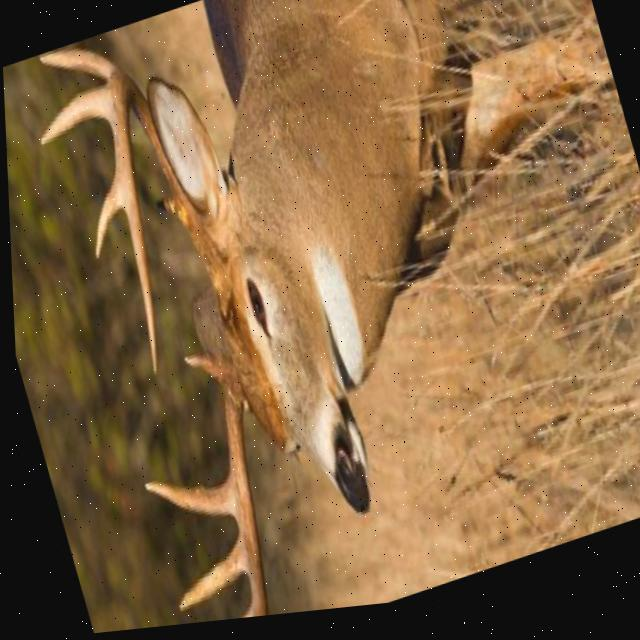L-F: (109, 69, 229, 378)
L-G1: (152, 199, 185, 230)
L-G2: (38, 47, 116, 80)
L-G3: (38, 85, 107, 145)
L-G4: (92, 174, 123, 261)
R-F: (220, 361, 261, 622)
R-G1: (179, 354, 222, 390)
R-G2: (139, 481, 229, 522)
R-G3: (172, 540, 240, 615)
